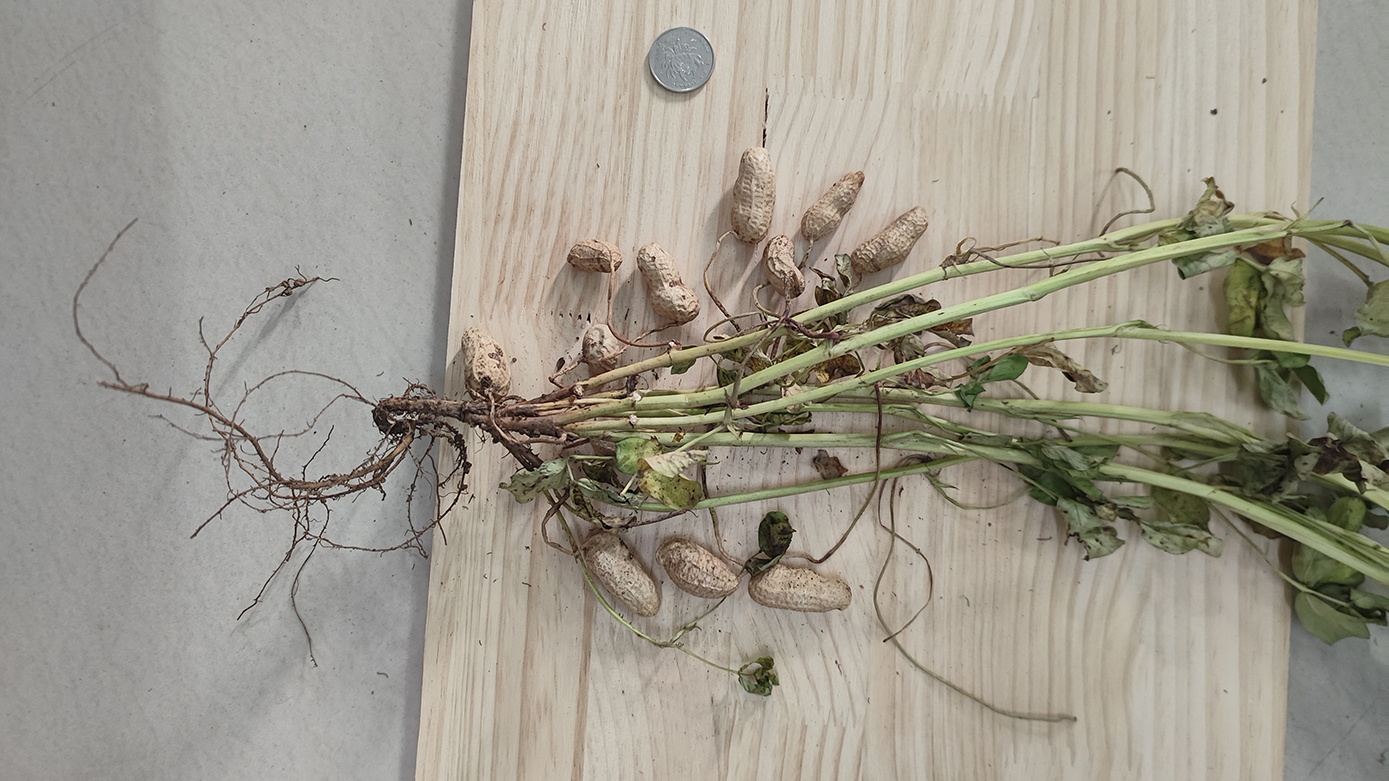h: (583, 531, 660, 617), (850, 206, 928, 274), (749, 562, 851, 612), (638, 243, 700, 323), (728, 146, 777, 245), (655, 540, 737, 599), (800, 170, 867, 239), (463, 330, 510, 395), (763, 235, 806, 300), (567, 239, 623, 275), (584, 324, 619, 372)
